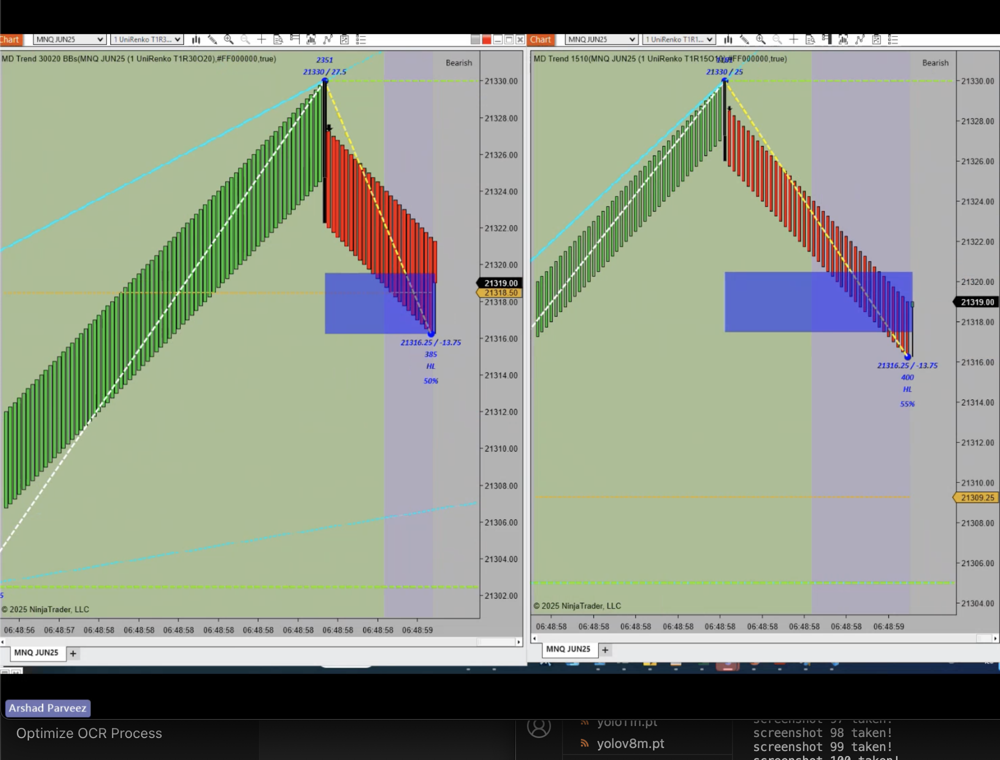HL: (420, 357, 440, 372), (900, 382, 916, 396)
